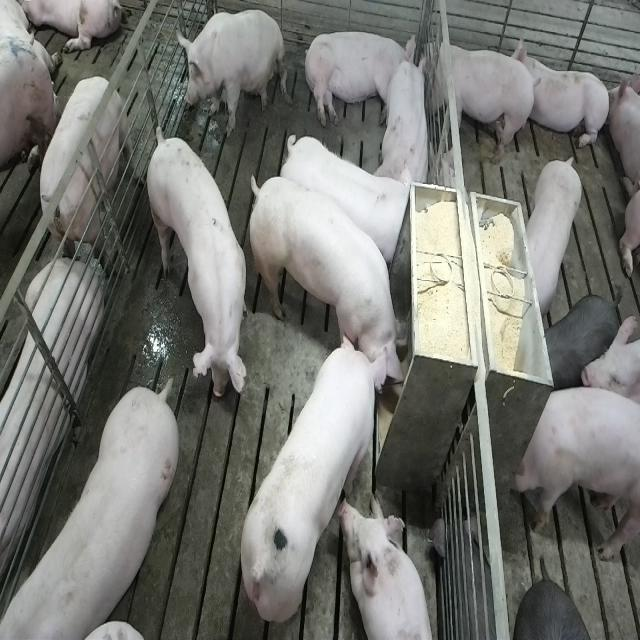Feeding: (238, 332, 392, 625), (252, 173, 416, 395)
Lateral_lying: (302, 28, 418, 129)
Sitting: (175, 8, 286, 138)
Standing: (6, 382, 181, 640), (144, 128, 246, 416), (512, 383, 638, 562), (30, 75, 132, 280), (280, 128, 414, 264), (421, 32, 537, 168), (524, 151, 586, 315), (542, 290, 618, 388)
Sternal_lying: (343, 494, 437, 640), (517, 34, 613, 154), (378, 50, 433, 188)
